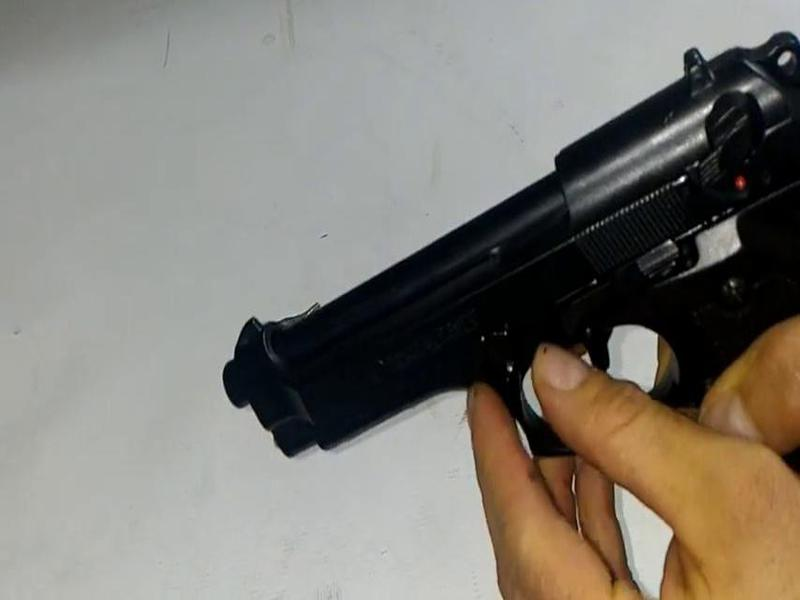Pistola: (157, 27, 800, 450)
